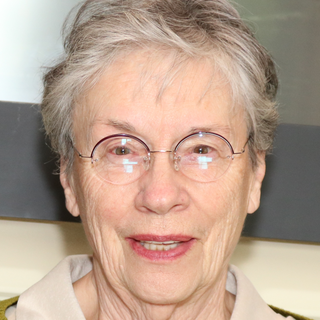eye: (102, 135, 147, 160), (179, 141, 226, 164)
